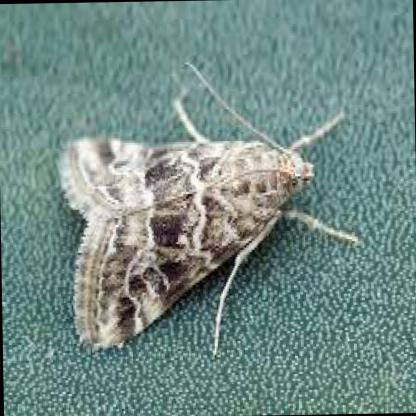Hellula undalis: (55, 49, 362, 367)
